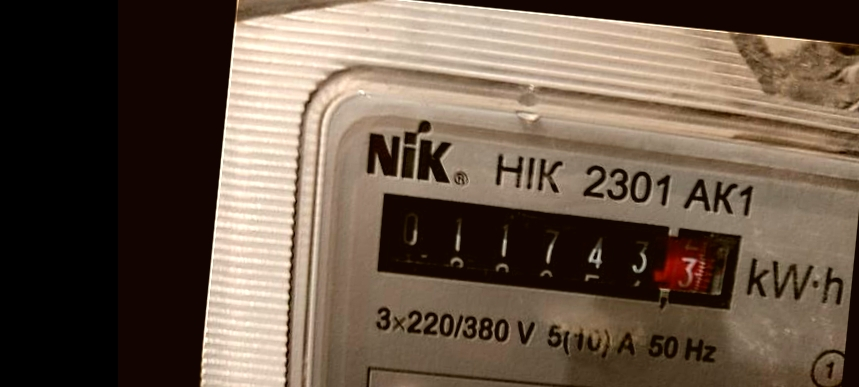0: (399, 209, 425, 250), (449, 213, 471, 256)
1: (495, 219, 515, 261)
3: (629, 235, 653, 280), (676, 253, 700, 293)
4: (585, 231, 609, 272)
7: (538, 223, 565, 269)
screen: (356, 178, 753, 323)
